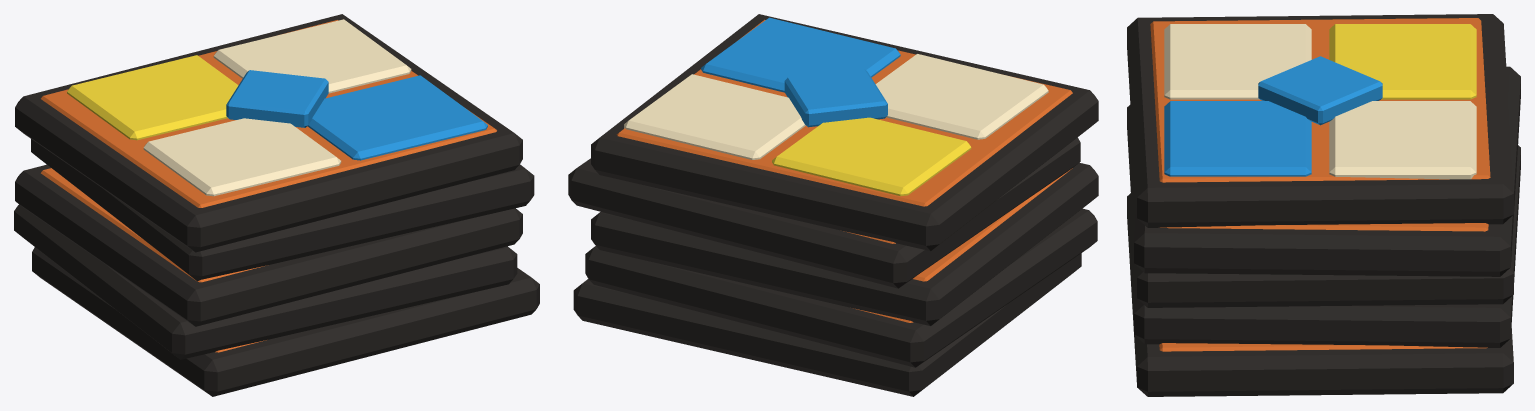
File: tiles.glb
3 views of the same model, side by side, from view 1: azimuth 30°, elevation 25°; view 2: azimuth 150°, elevation 25°; view 3: azimuth 270°, elevation 25° (orthographic). The views are drawn at different scales.
Visible parts, largest first — view 1: tiles-dark-edge-4, tiles-dark-edge-2, tiles-dark-edge-1, tiles-dark-edge-0, tiles-dark-edge-3, tiles-mosaic-quarter-0, tiles-mosaic-quarter-1, tiles-mosaic-quarter-2, tiles-mosaic-quarter-3, tiles-red-clay-4, tiles-blue-center-diamond, tiles-red-clay-2; view 2: tiles-dark-edge-4, tiles-dark-edge-1, tiles-dark-edge-2, tiles-dark-edge-3, tiles-dark-edge-0, tiles-mosaic-quarter-2, tiles-mosaic-quarter-3, tiles-mosaic-quarter-0, tiles-mosaic-quarter-1, tiles-red-clay-4, tiles-blue-center-diamond, tiles-red-clay-2; view 3: tiles-dark-edge-4, tiles-dark-edge-3, tiles-dark-edge-0, tiles-dark-edge-1, tiles-dark-edge-2, tiles-mosaic-quarter-3, tiles-mosaic-quarter-1, tiles-mosaic-quarter-2, tiles-mosaic-quarter-0, tiles-red-clay-4, tiles-blue-center-diamond, tiles-red-clay-0 (+1 smaller).
Part boxes in pixels (x1,y1,x2,y2): tiles-dark-edge-4: (15,14,522,252); tiles-dark-edge-2: (15,164,522,326); tiles-dark-edge-1: (14,204,517,359); tiles-dark-edge-0: (32,247,539,396); tiles-dark-edge-3: (31,139,534,281); tiles-mosaic-quarter-0: (143,118,341,196); tiles-mosaic-quarter-1: (307,75,487,160); tiles-mosaic-quarter-2: (67,55,238,140); tiles-mosaic-quarter-3: (213,19,411,93); tiles-red-clay-4: (41,20,496,207); tiles-blue-center-diamond: (226,70,328,127); tiles-red-clay-2: (41,168,265,282); tiles-dark-edge-4: (591,14,1098,251); tiles-dark-edge-1: (585,208,1097,367); tiles-dark-edge-2: (591,162,1098,325); tiles-dark-edge-3: (568,137,1080,288); tiles-dark-edge-0: (573,253,1081,396); tiles-mosaic-quarter-2: (772,117,971,196); tiles-mosaic-quarter-3: (624,74,805,159); tiles-mosaic-quarter-0: (875,54,1048,139); tiles-mosaic-quarter-1: (701,17,900,92); tiles-red-clay-4: (616,19,1072,206); tiles-blue-center-diamond: (784,69,887,127); tiles-red-clay-2: (913,168,1072,281); tiles-dark-edge-4: (1127,14,1513,227); tiles-dark-edge-3: (1134,66,1520,276); tiles-dark-edge-0: (1127,193,1513,396); tiles-dark-edge-1: (1134,145,1520,347); tiles-dark-edge-2: (1127,105,1513,307); tiles-mosaic-quarter-3: (1329,101,1476,179); tiles-mosaic-quarter-1: (1164,101,1311,176); tiles-mosaic-quarter-2: (1329,24,1476,99); tiles-mosaic-quarter-0: (1164,24,1311,99); tiles-red-clay-4: (1150,18,1490,182); tiles-blue-center-diamond: (1258,56,1382,125); tiles-red-clay-0: (1159,343,1487,351).
Bounding box in the file's own units: 1.84 × 1 × 1.59.
